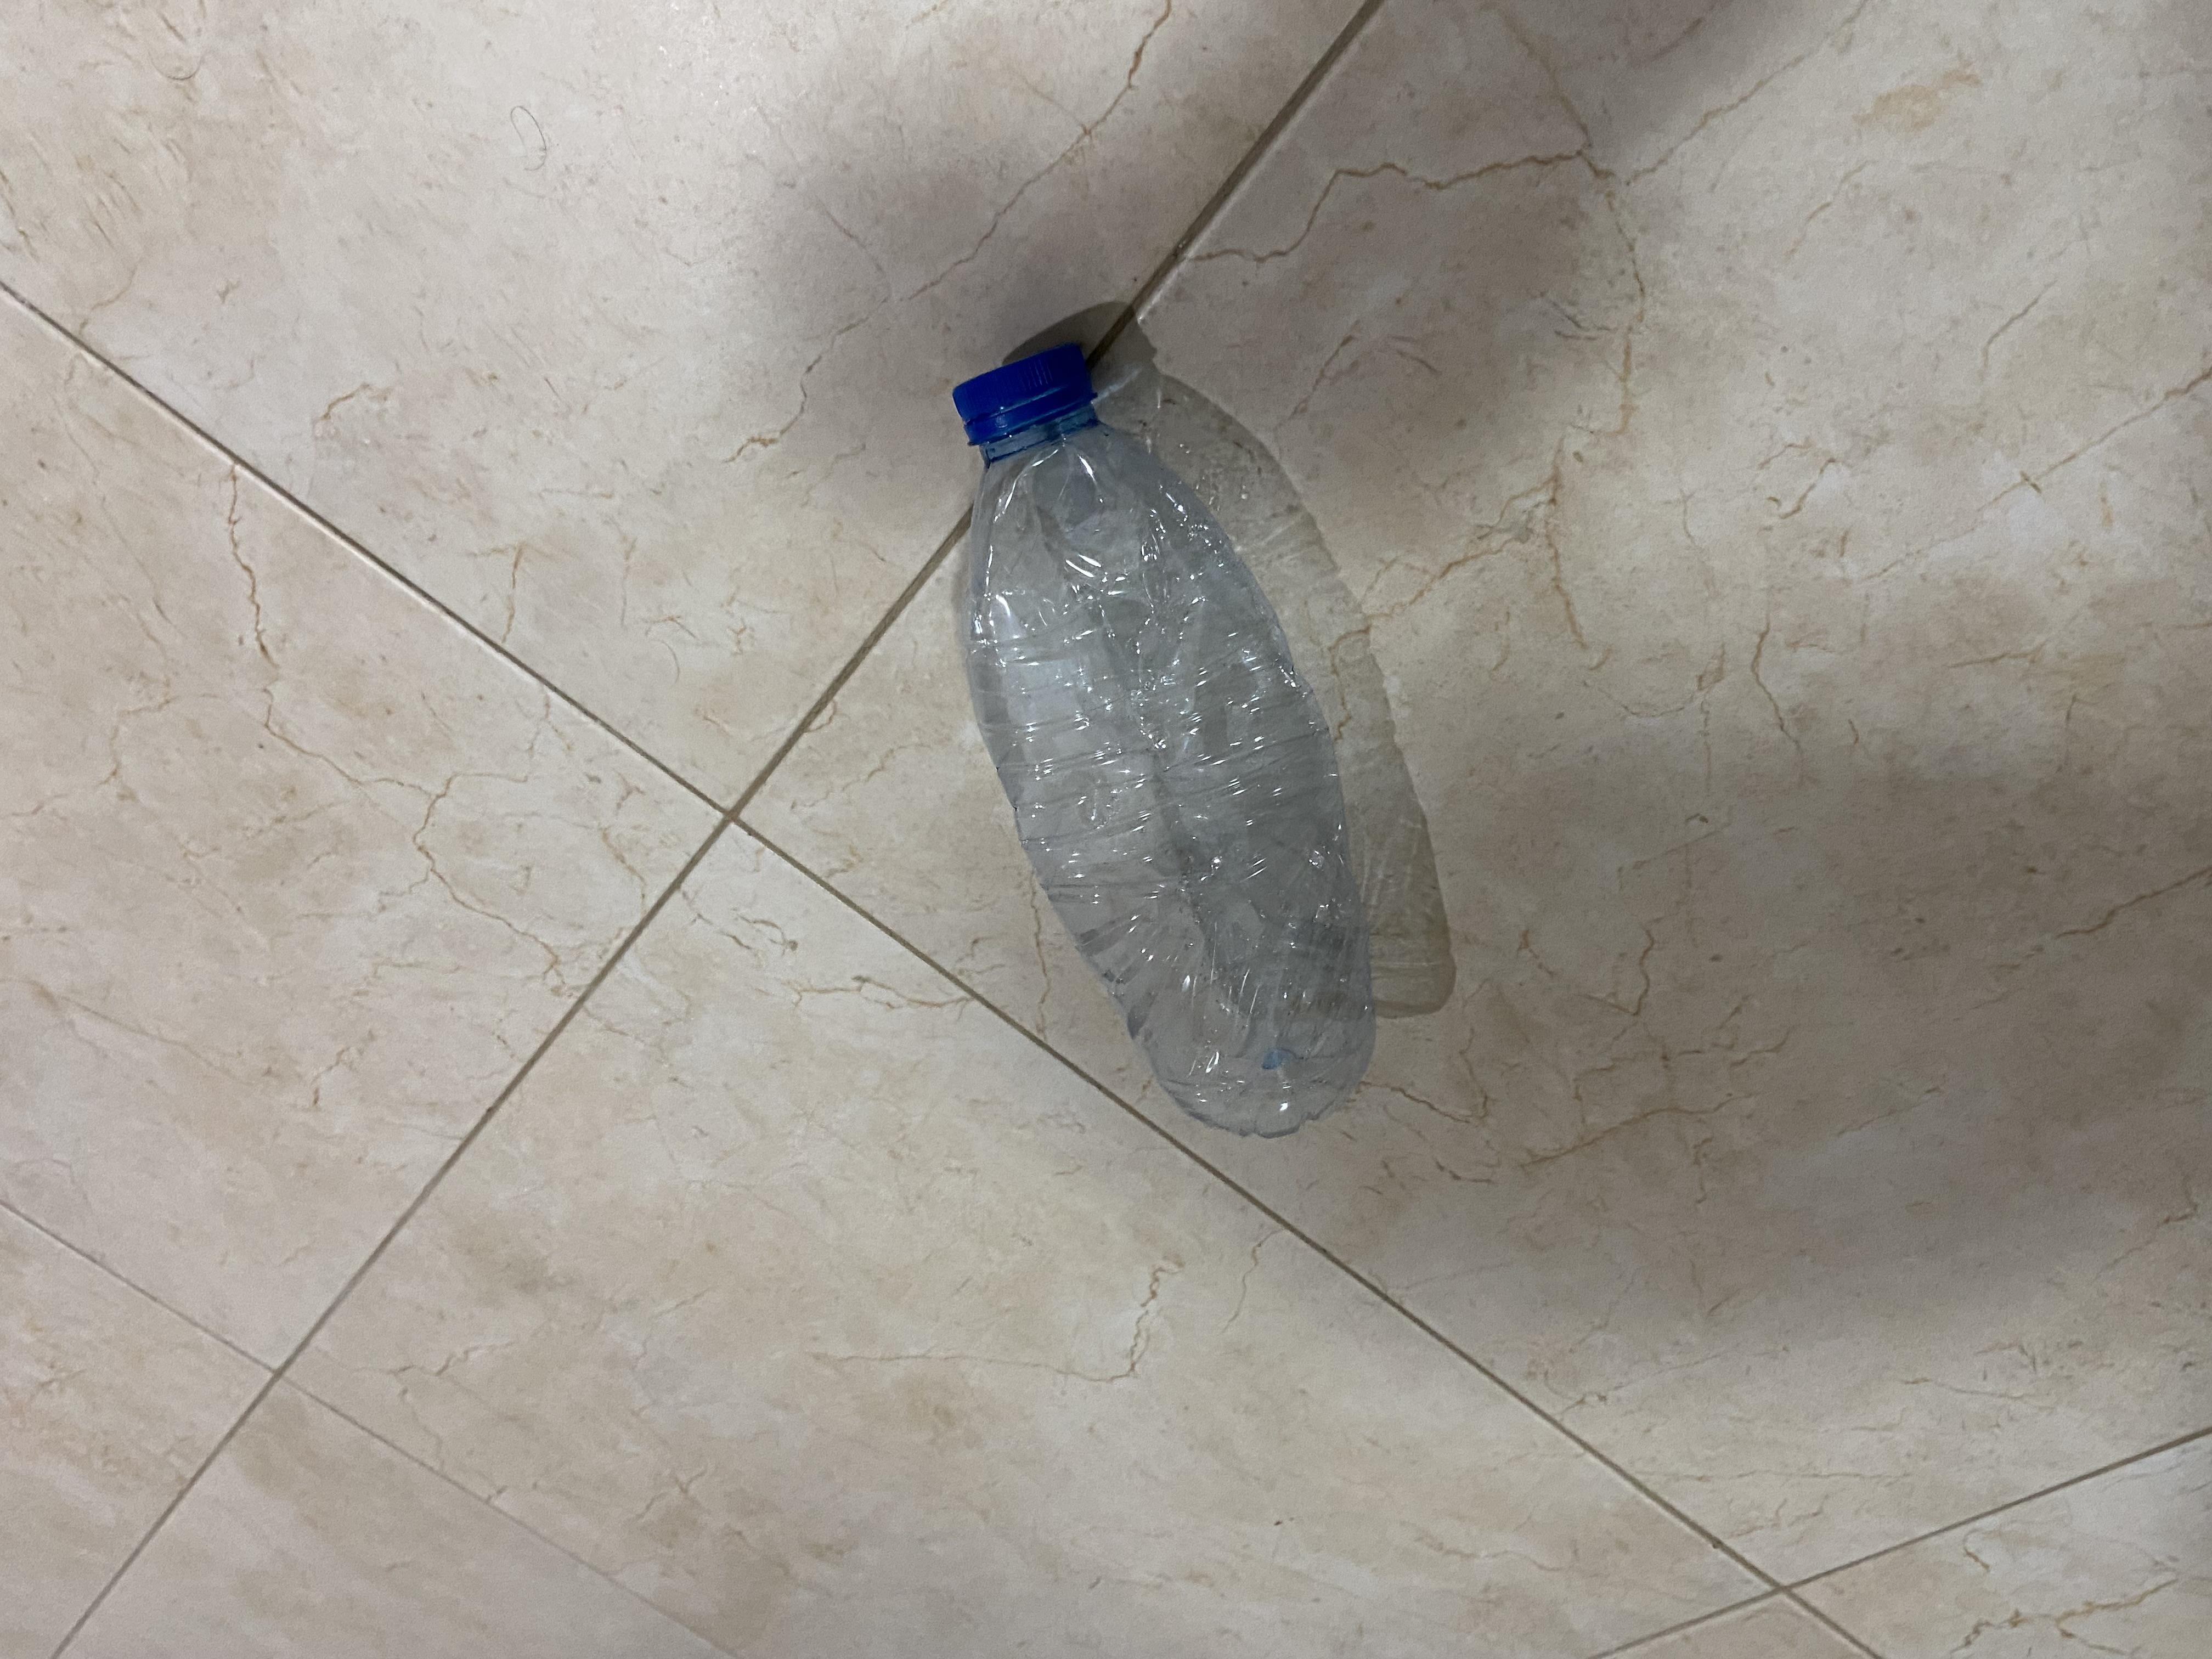bottle: (937, 328, 1385, 1154)
